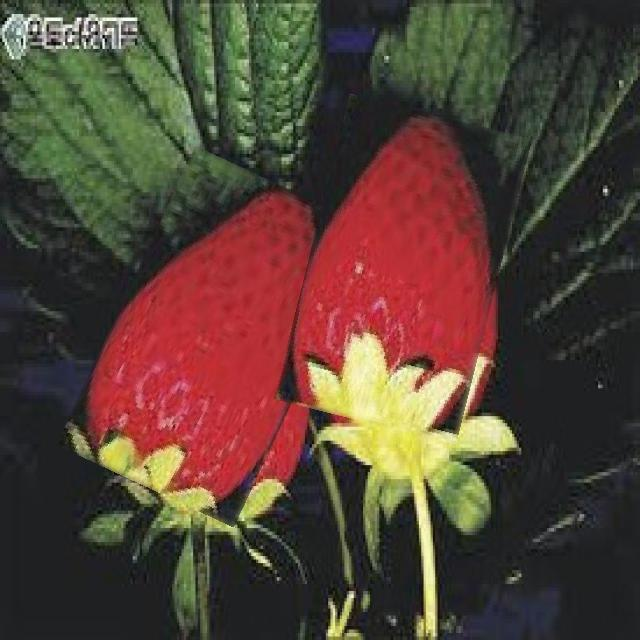strawberry: (86, 159, 342, 515), (291, 102, 514, 435)
